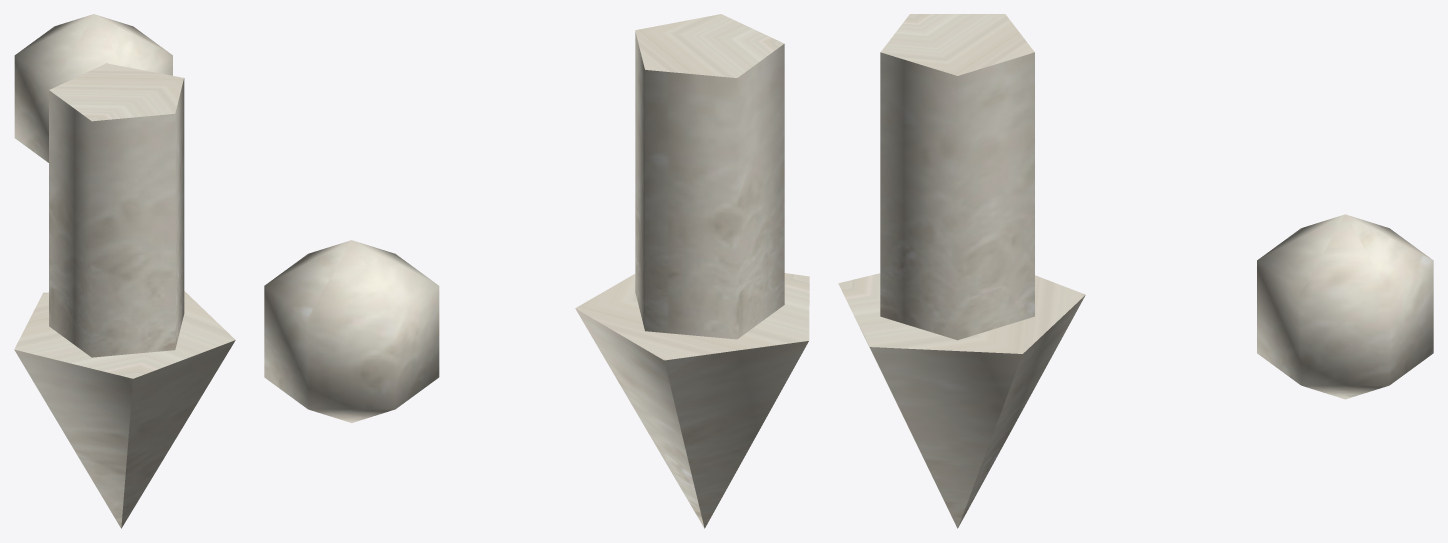
File: arrow.FBX
The picture shows the model from 3 angles, left to right: view 1: azimuth 30°, elevation 25°; view 2: azimuth 150°, elevation 25°; view 3: azimuth 270°, elevation 25°; orthographic projection. The views are drawn at different scales.
Visible parts, largest first — view 1: Cylinder001, Cone001, Sphere001; view 2: Cylinder001, Cone001, Sphere001; view 3: Cylinder001, Sphere001, Cone001.
Boxes of the visible parts, x1,y1,x2,y2 form: Cylinder001: (49, 63, 184, 357); Cone001: (14, 291, 235, 528); Sphere001: (14, 14, 172, 162); Cylinder001: (635, 14, 784, 339); Cone001: (575, 273, 809, 528); Sphere001: (264, 240, 439, 422); Cylinder001: (880, 14, 1034, 340); Sphere001: (1257, 214, 1433, 399); Cone001: (838, 273, 1085, 528).
Bounding box in the file's own units: 66.57 × 90.58 × 100.
1 material, 1 textured.
